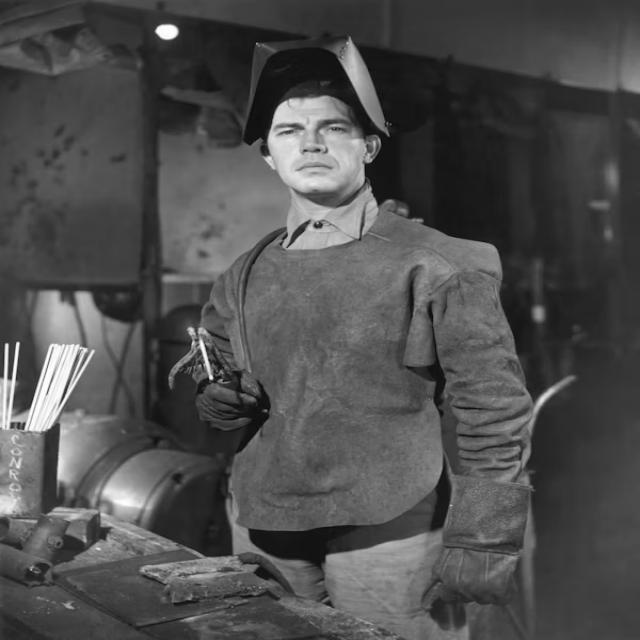helmet_lifted: (211, 32, 400, 202)
